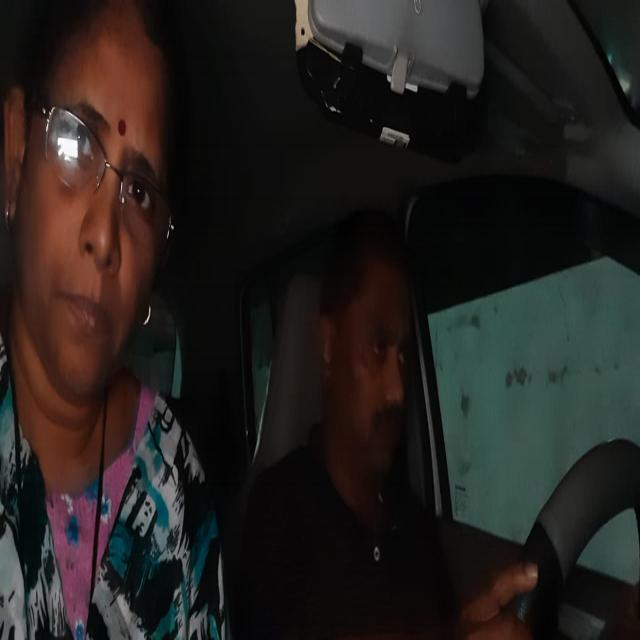person: (3, 3, 189, 422), (313, 188, 426, 501)
